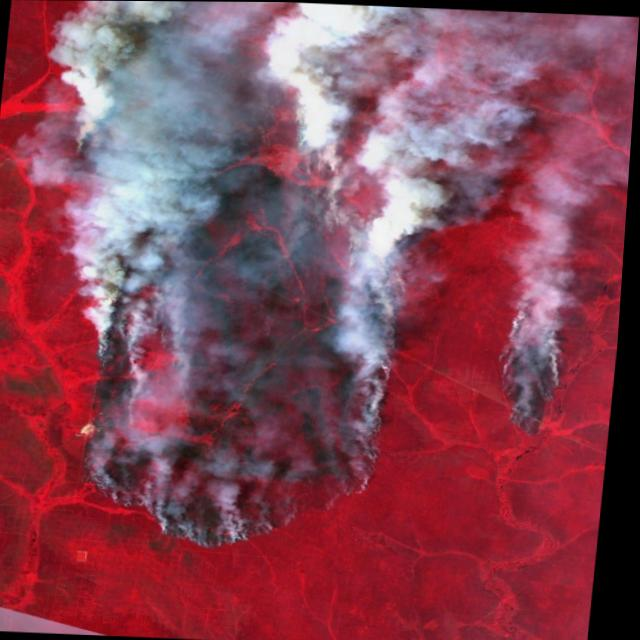fire: (20, 18, 447, 565), (483, 299, 588, 449)
